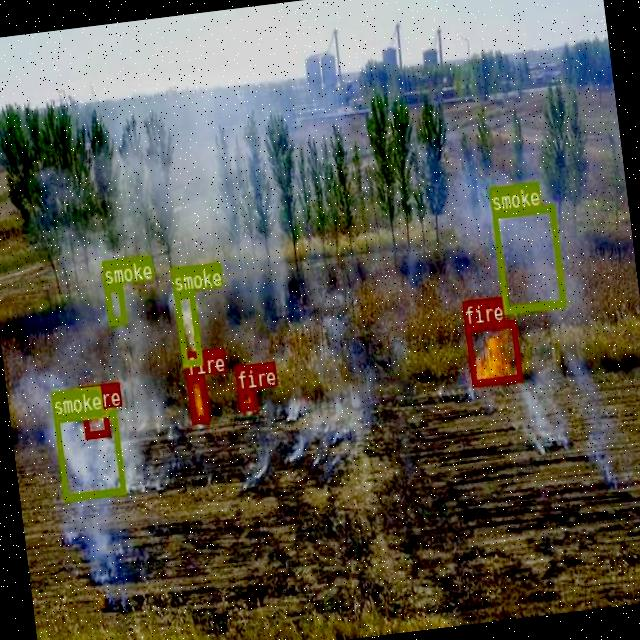fire: (464, 318, 521, 386), (186, 373, 208, 423), (82, 407, 109, 438), (238, 388, 255, 410)
smoke: (491, 202, 565, 312), (52, 407, 124, 499), (172, 289, 202, 365), (102, 282, 126, 324)
